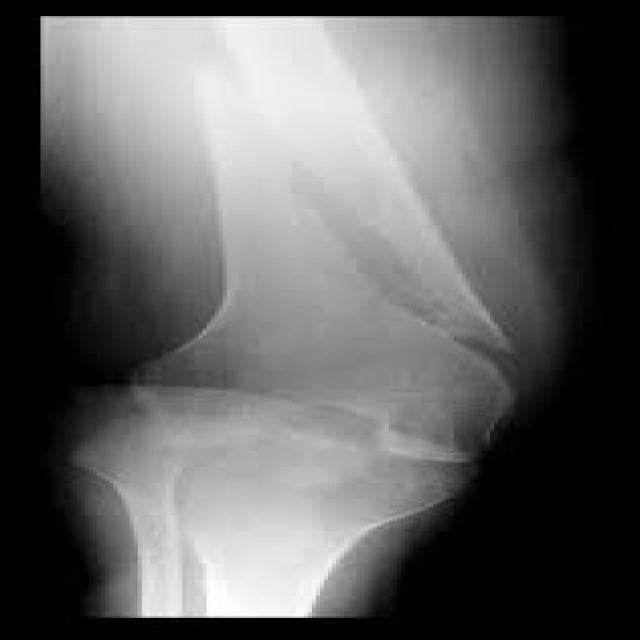Longitudinal: (364, 241, 562, 524)
